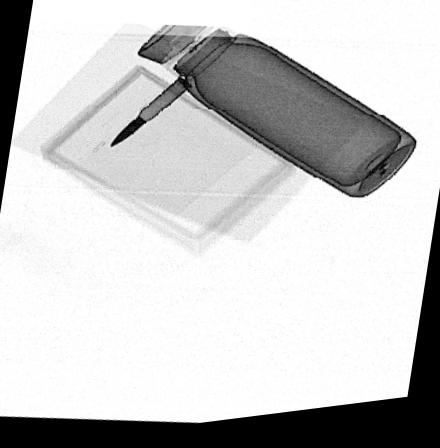Bullet: (108, 80, 190, 148)
